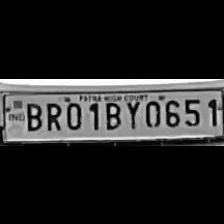0: (62, 98, 84, 130), (142, 96, 160, 128)
1: (204, 93, 222, 126), (85, 98, 102, 130)
5: (181, 93, 201, 126)
6: (162, 95, 180, 127)
B: (100, 96, 122, 130), (22, 99, 42, 131)
R: (42, 97, 62, 130)
Y: (124, 96, 142, 128)
